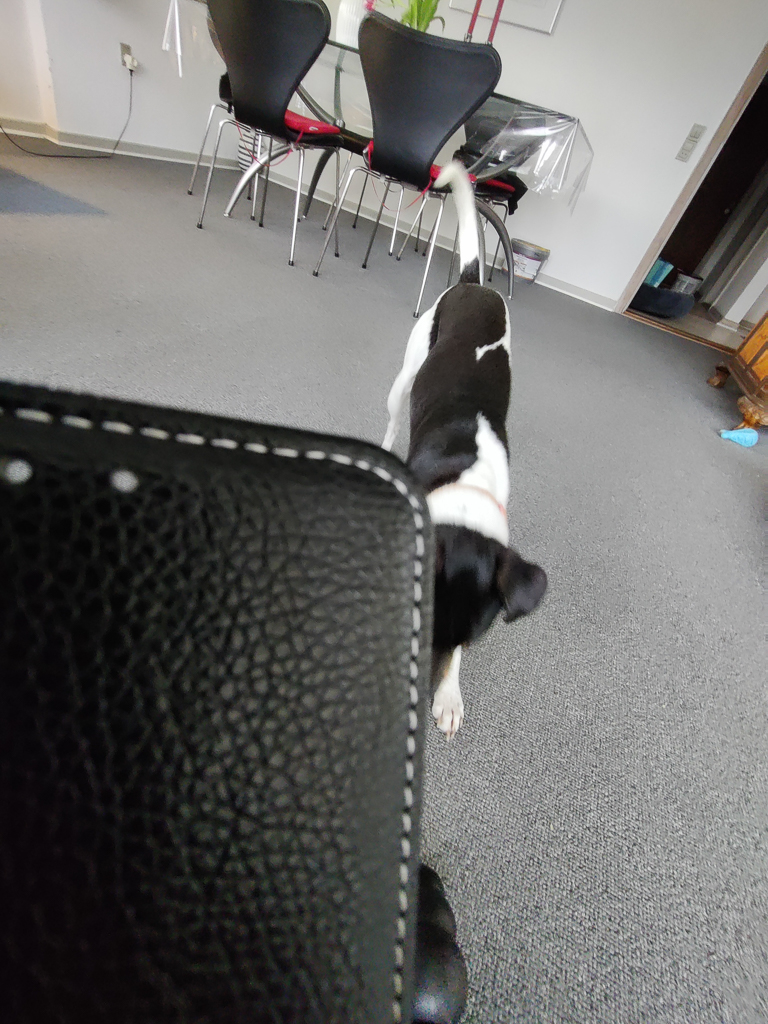Dog: (368, 135, 562, 749)
